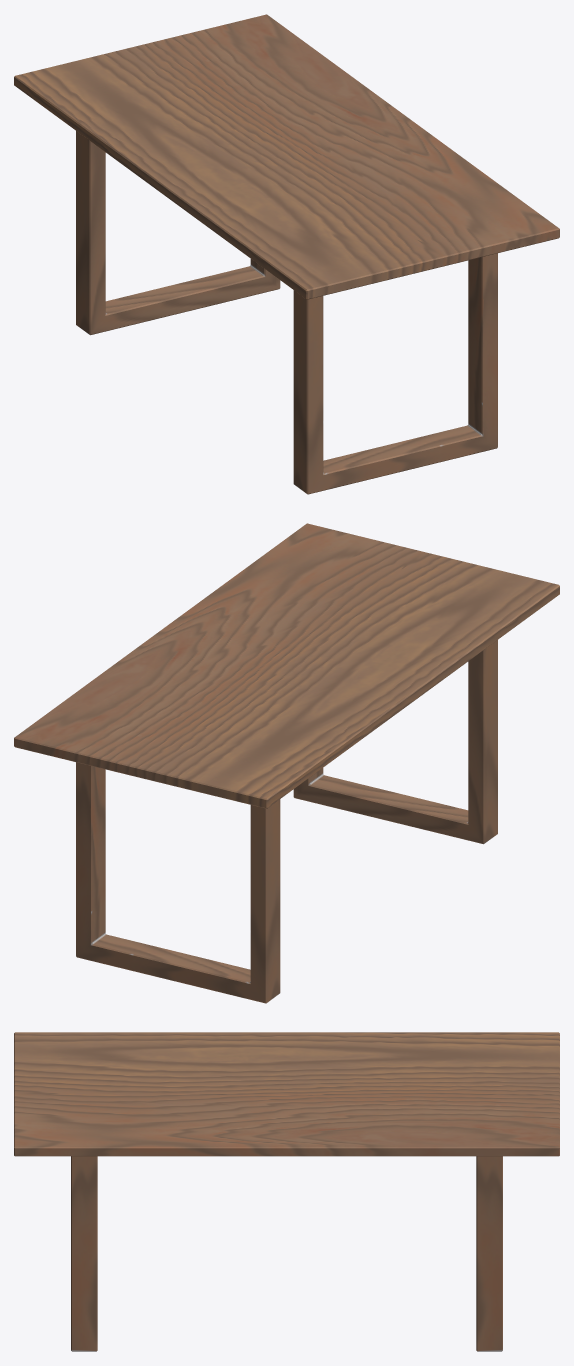
The model's file is Table1.obj.
3 renders of one model, top to bottom at view 1: azimuth 30°, elevation 25°; view 2: azimuth 150°, elevation 25°; view 3: azimuth 270°, elevation 25°, orthographic. The views are drawn at different scales.
Parts seen in each view (by area): view 1: Cube.032; view 2: Cube.032; view 3: Cube.032.
Boxes of the visible parts, x1,y1,x2,y2 form: Cube.032: [14, 14, 559, 494]; Cube.032: [14, 523, 559, 1003]; Cube.032: [14, 1032, 559, 1351].
Size of the model in its own units: 0.8661 by 0.766 by 1.73.
